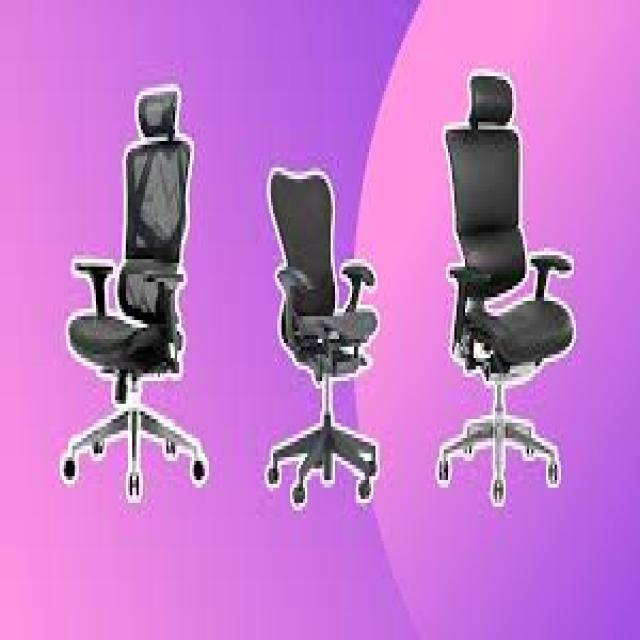chair: (391, 38, 605, 589), (34, 72, 221, 565), (240, 114, 387, 618)
